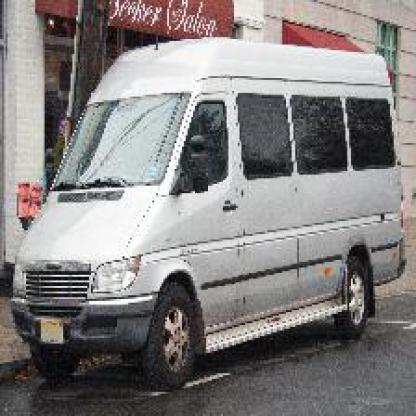not_emergency: (9, 30, 409, 382)
